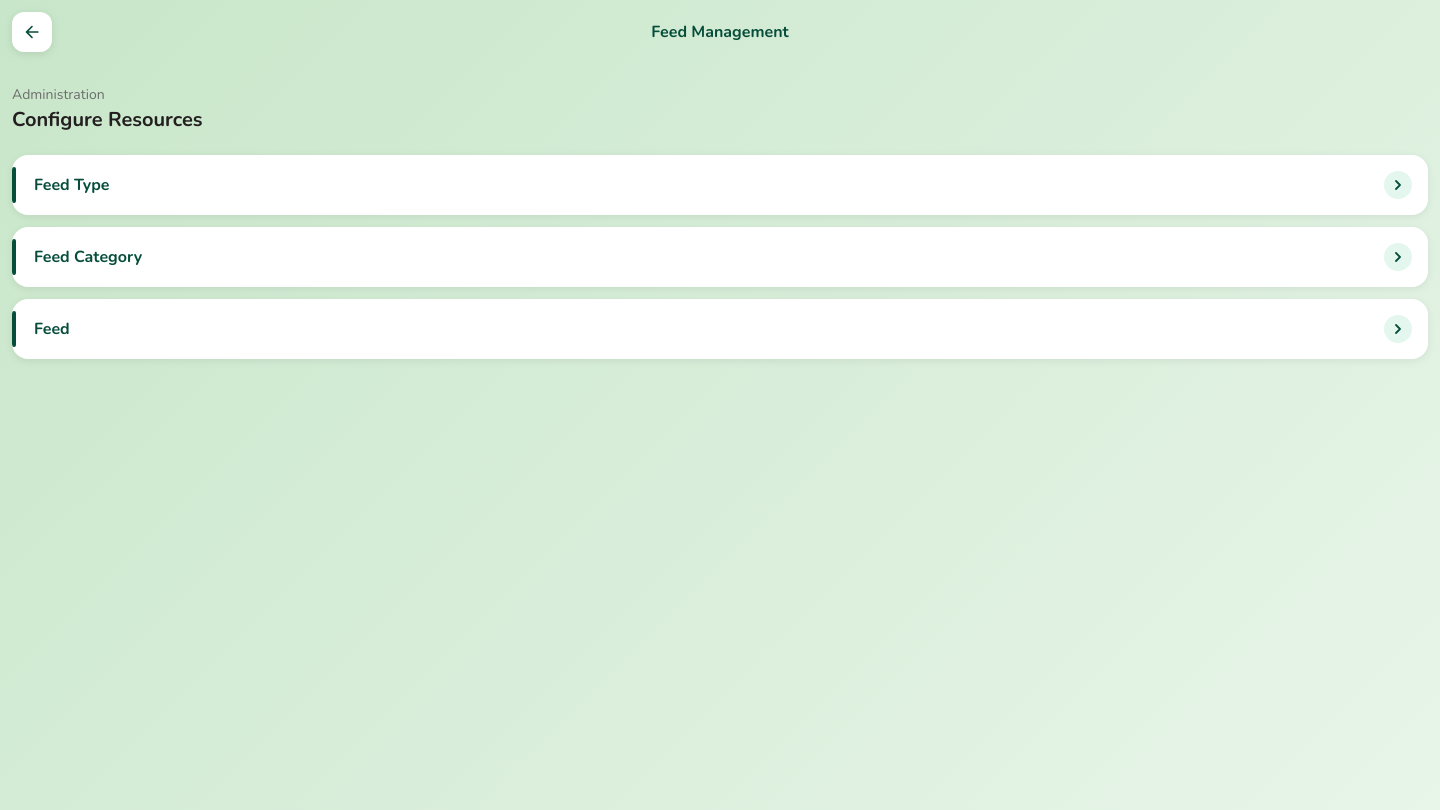
Scenario: Admin Feeds — two-level navigation › landing view shows the 3 nav cards; clicking one opens that sub-section's list view
This screenshot has width=1440, height=810.
Expected: the button "Feed Category" is shown, x1=12 y1=227 x2=1428 y2=287
Expected: the button "Feed" is shown, x1=12 y1=299 x2=1428 y2=359
Click the button "Feed Type": (72, 185) x1=12 y1=155 x2=1428 y2=215
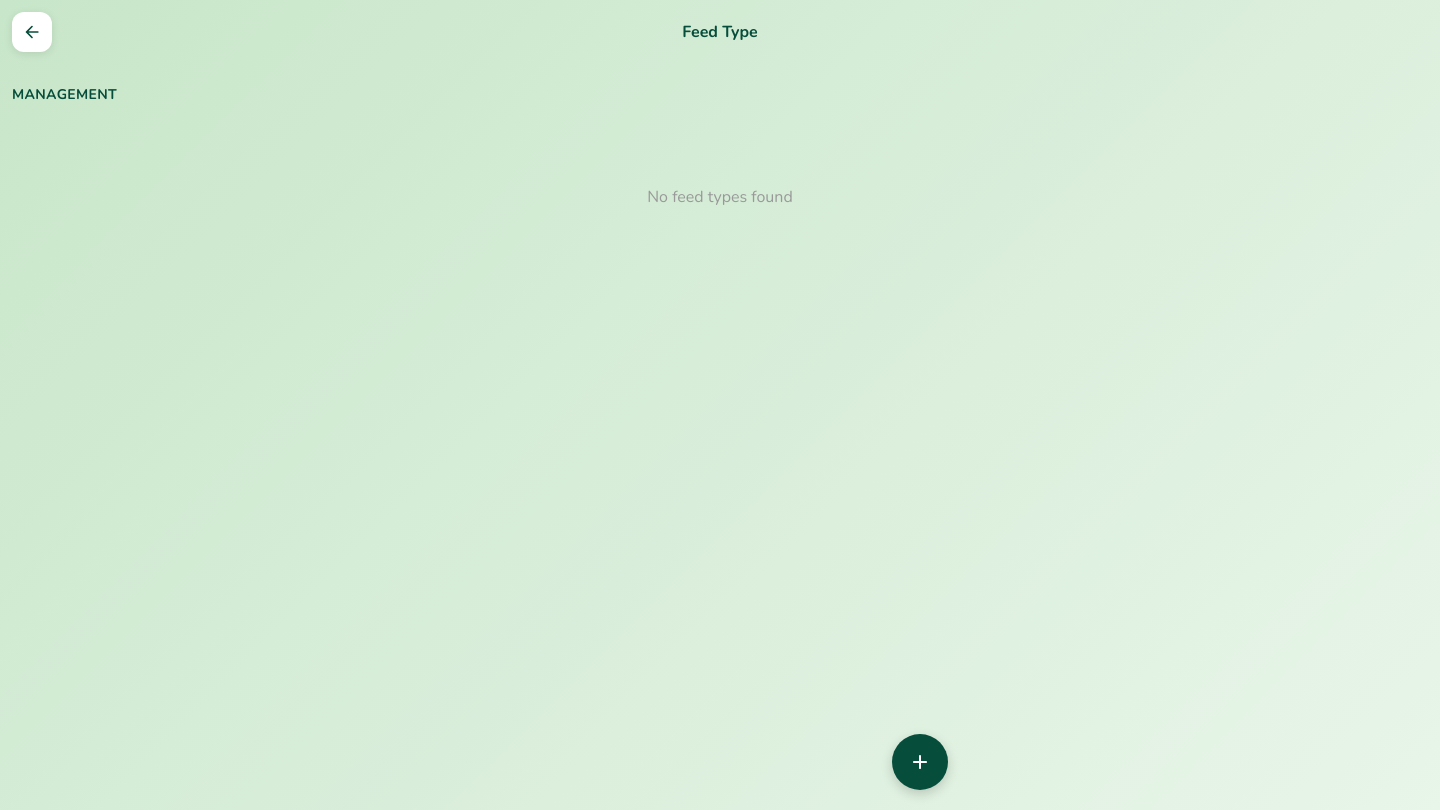
Now the heading "Feed Type" is shown, box x1=682 y1=21 x2=758 y2=43
Now the button named "Add feed type" is shown, box x1=892 y1=734 x2=948 y2=790
Now the button "Feed Category" is gone
